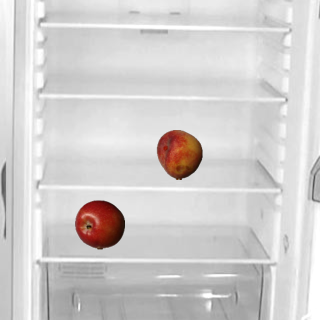Apple Braeburn: (74, 199, 124, 249)
Peach: (154, 129, 204, 179)
